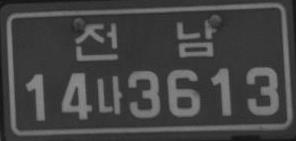1: (208, 66, 237, 117), (23, 72, 51, 121)
3: (244, 65, 280, 116), (126, 69, 161, 120)
4: (59, 71, 92, 120)
6: (165, 68, 201, 118)
나: (96, 74, 123, 116)
전남_D: (73, 18, 218, 61)
